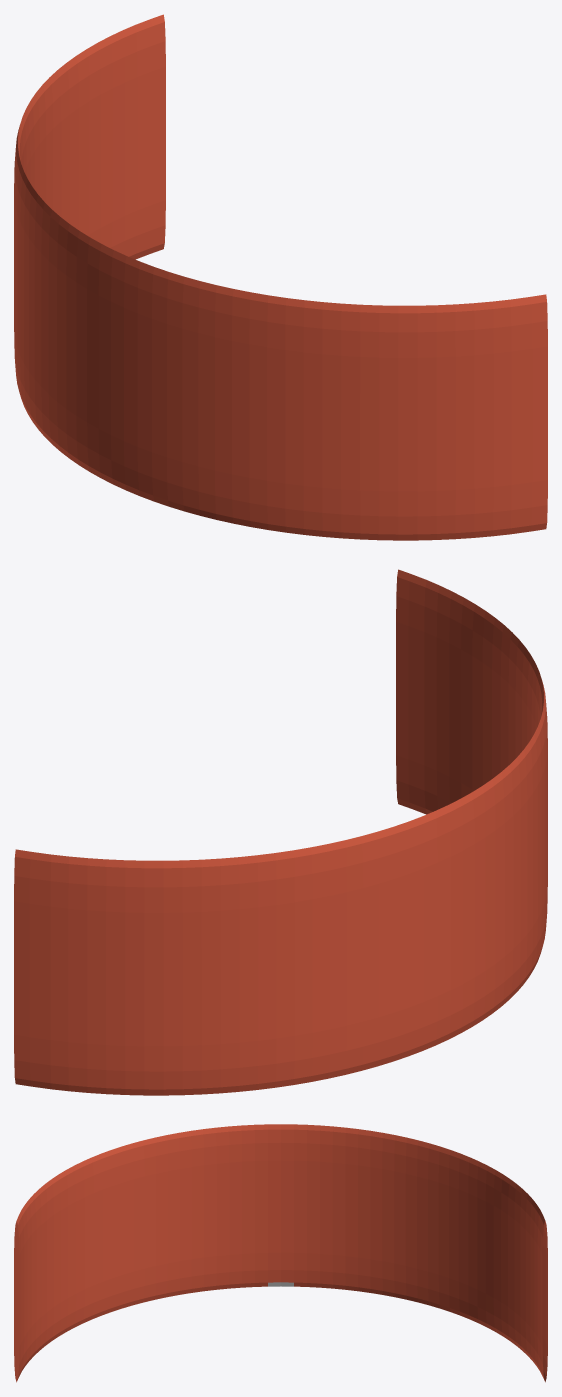
The model's file is collider_left.fbx.
The picture shows the model from 3 angles, top to bottom: view 1: azimuth 30°, elevation 25°; view 2: azimuth 150°, elevation 25°; view 3: azimuth 270°, elevation 25°; orthographic projection. The views are drawn at different scales.
Visible parts, largest first — view 1: collider_left; view 2: collider_left; view 3: collider_left.
Boxes of the visible parts, x1,y1,x2,y2 form: collider_left: [14, 14, 547, 540]; collider_left: [14, 569, 547, 1095]; collider_left: [14, 1124, 547, 1382].
Size of the model in its own units: 294 by 228 by 680.
